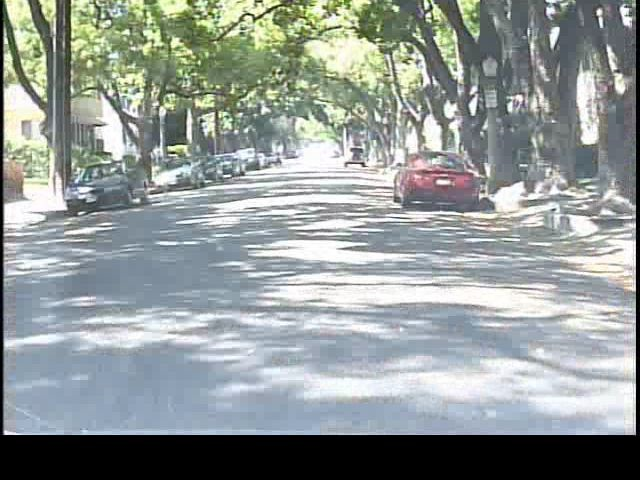person: (141, 144, 161, 185)
